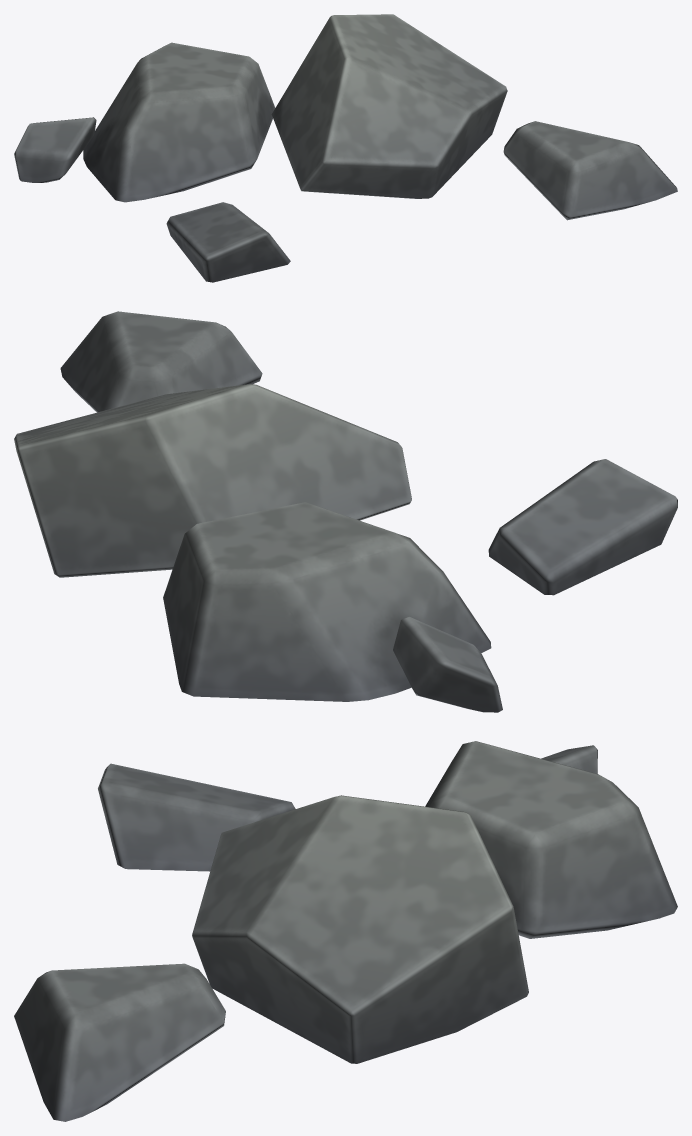
File: rubble_1.glb
The picture shows the model from 3 angles, top to bottom: view 1: azimuth 30°, elevation 25°; view 2: azimuth 150°, elevation 25°; view 3: azimuth 270°, elevation 25°; orthographic projection. The views are drawn at different scales.
Parts seen in each view (by area): view 1: rubble_1; view 2: rubble_1; view 3: rubble_1.
Part boxes in pixels (x1,y1,x2,y2): rubble_1: (14, 14, 677, 282); rubble_1: (14, 311, 677, 712); rubble_1: (14, 741, 677, 1121).
Bounding box in the file's own units: 0.6 × 0.14 × 0.5.
1 material, 1 textured.
